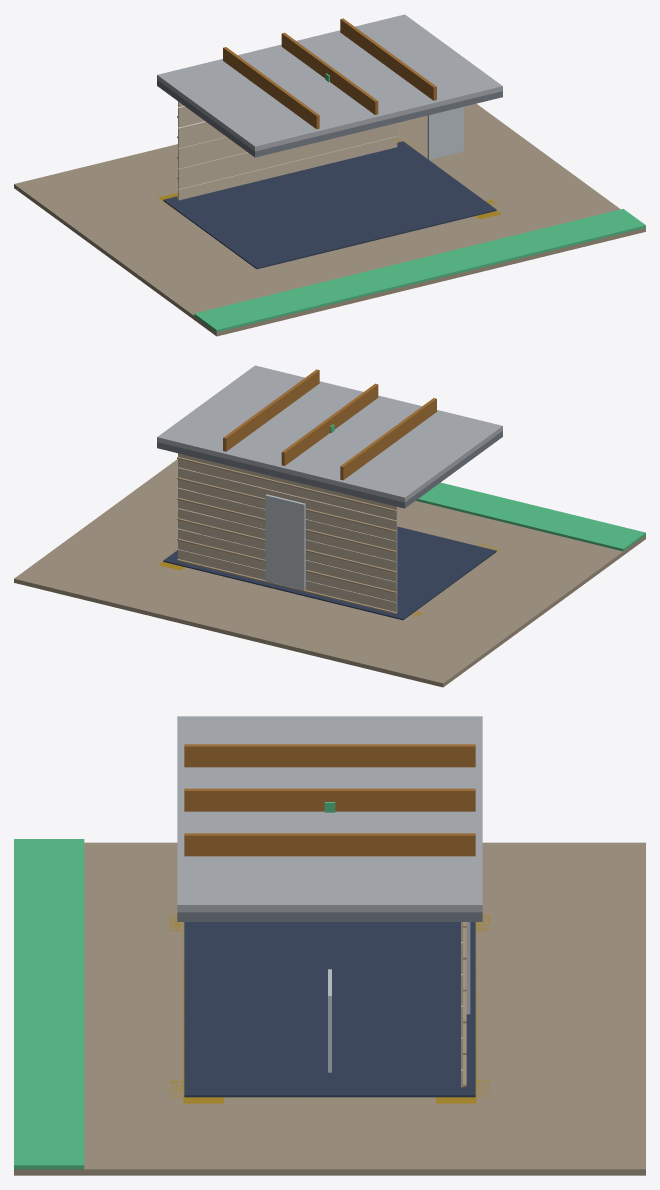
Rendered from construction_master.glb.
The picture shows the model from 3 angles, top to bottom: view 1: azimuth 30°, elevation 25°; view 2: azimuth 150°, elevation 25°; view 3: azimuth 270°, elevation 25°; orthographic projection. The views are drawn at different scales.
Visible parts, largest first — view 1: world; view 2: world; view 3: world.
Boxes of the visible parts, bbox=[...] form: world: bbox=[14, 14, 645, 336]; world: bbox=[14, 365, 645, 687]; world: bbox=[14, 716, 645, 1175].
Size of the model in its own units: 11 by 4.2 by 9.
